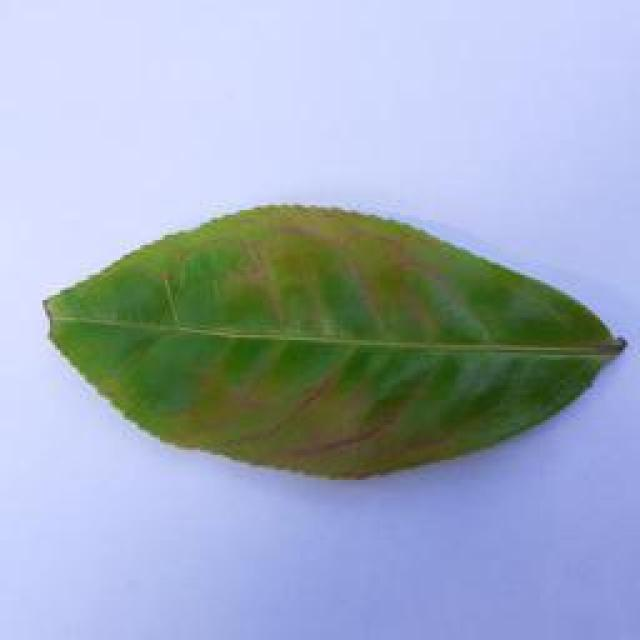Red Leaf Spot: (43, 206, 632, 488)
